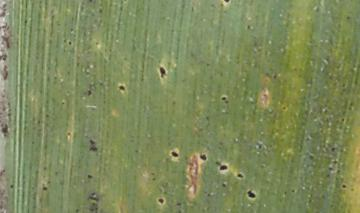tarspot: (87, 136, 99, 155), (245, 187, 259, 201), (215, 162, 232, 173), (168, 148, 182, 161), (157, 64, 168, 80), (84, 171, 98, 183), (116, 83, 128, 94), (198, 151, 209, 163), (234, 170, 246, 181), (327, 144, 339, 155), (155, 195, 166, 206), (84, 87, 95, 98), (40, 183, 50, 194), (65, 38, 75, 48), (339, 181, 349, 191), (218, 93, 229, 102), (7, 181, 16, 191), (219, 181, 229, 190), (173, 199, 184, 207), (221, 1, 233, 5)
